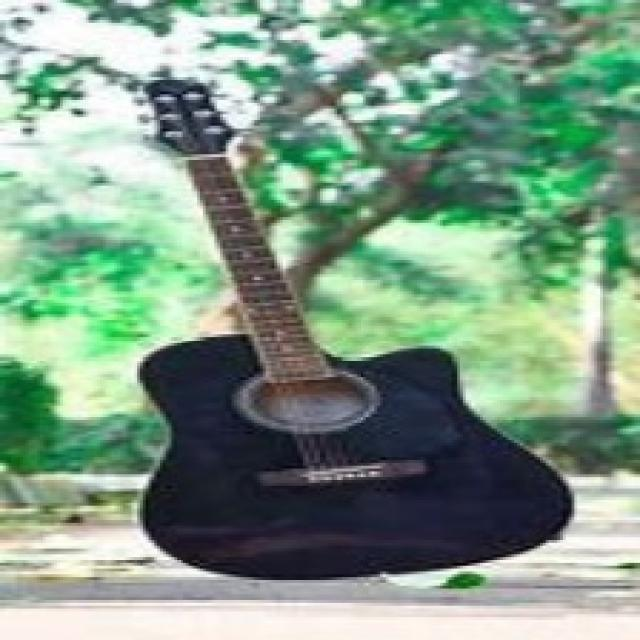guitar: (136, 83, 577, 580)
